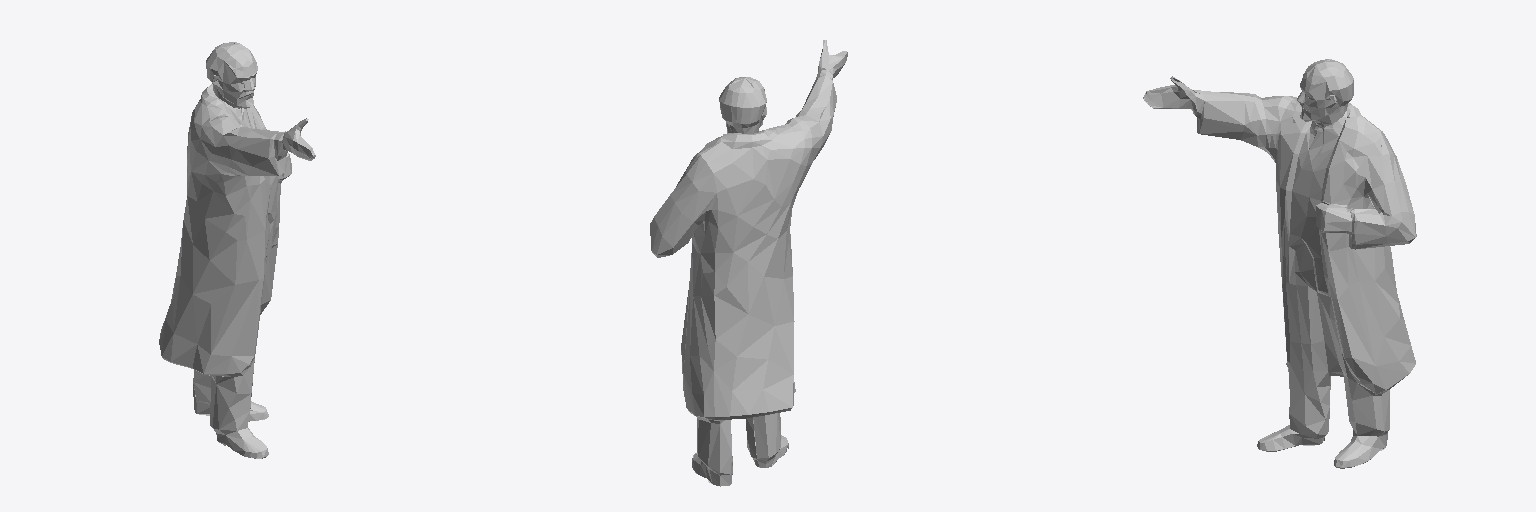
Rendered from Lenin_5.obj.
The picture shows the model from 3 angles: view 1: azimuth 30°, elevation 25°; view 2: azimuth 150°, elevation 25°; view 3: azimuth 270°, elevation 25°; orthographic projection.
Visible parts, largest first — view 1: lenin1; view 2: lenin1; view 3: lenin1.
Boxes of the visible parts, <box> form: lenin1: <box>159,42,315,458</box>; lenin1: <box>650,40,847,486</box>; lenin1: <box>1143,59,1416,468</box>.
Bounding box in the file's own units: 1.67 × 5.21 × 3.32.